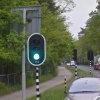traffic lights: (28, 33, 46, 65)
